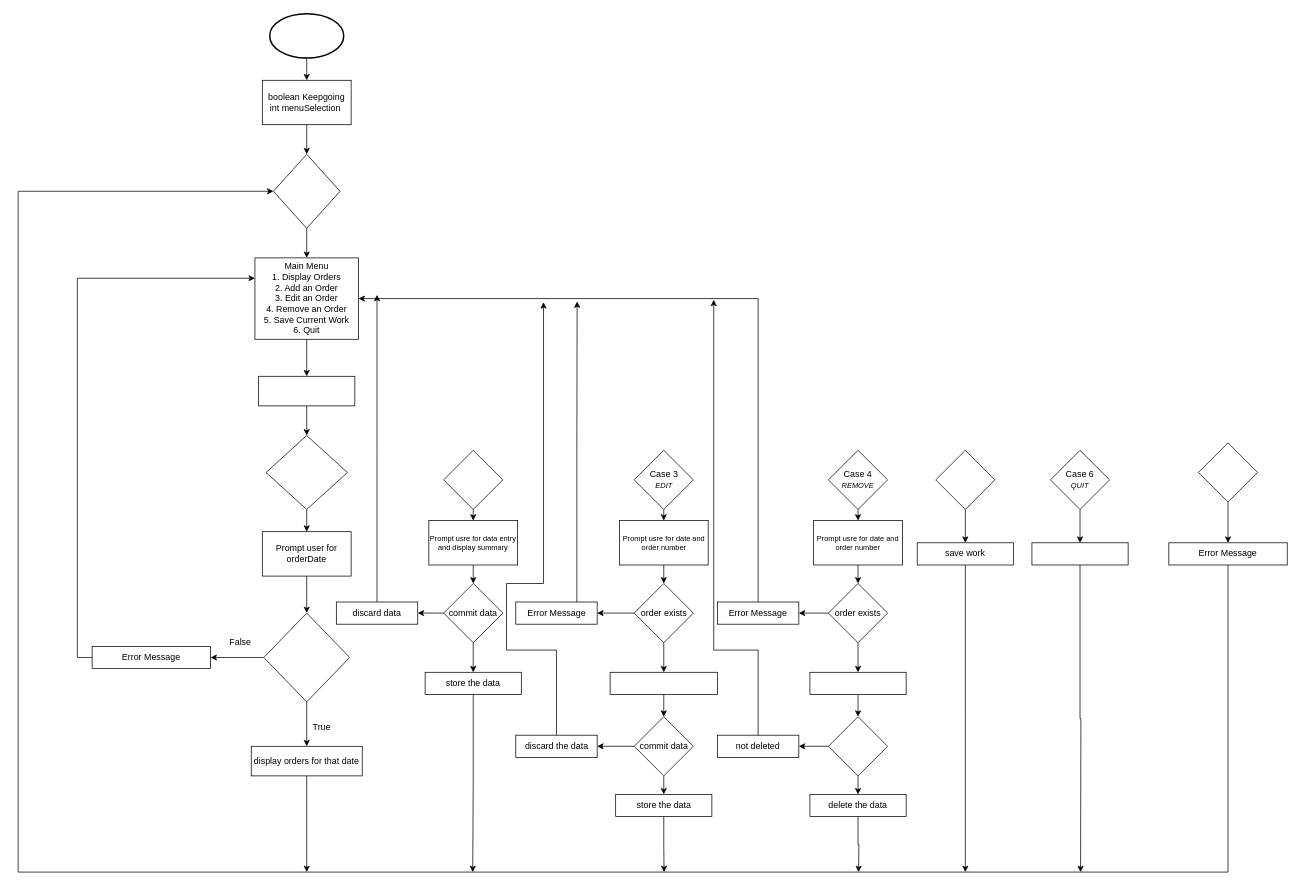
The diagram is 1300 pixels wide and 891 high, and some of its shapes have lost their labels. Each missing label, with the centre of its shape:
Case 1 (Display Orders): point 306,472
Case 2 ADD: point 473,479
Case 5 SAVE: point 965,479
DEFAULT: point 1228,472
delete: point 858,746
display order data and ask user to delete: point 857,683
keep going = false: point 1079,553
order with date exists: point 306,657
run through each category and display summary: point 663,683
START: point 306,35
switch (menuSelection): point 306,391
while (keepgoing): point 306,191
